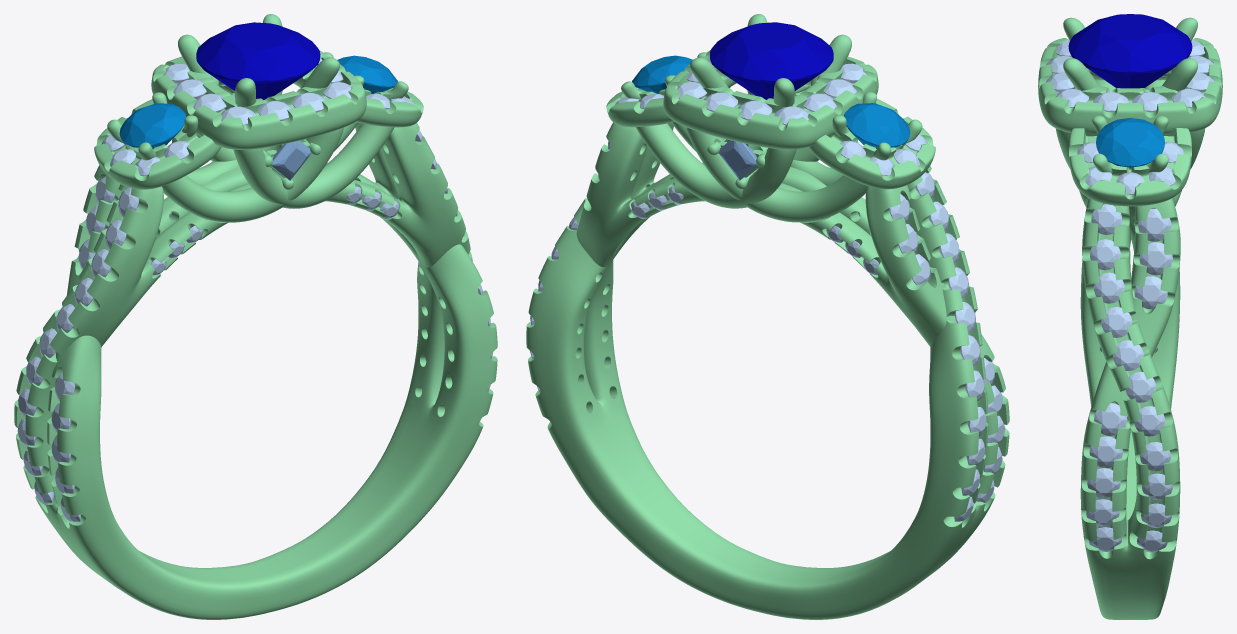
3 views of the same model, side by side, from view 1: azimuth 30°, elevation 25°; view 2: azimuth 150°, elevation 25°; view 3: azimuth 270°, elevation 25° (orthographic).
Parts seen in each view (by area): view 1: 136 Anillo Matrimonio Excelsior.3dm, Diamond_Round (×3), Diamond_Princess; view 2: 136 Anillo Matrimonio Excelsior.3dm, Diamond_Round (×3), Diamond_Princess; view 3: 136 Anillo Matrimonio Excelsior.3dm, Diamond_Round (×32).
Boxes of the visible parts, <box> form: 136 Anillo Matrimonio Excelsior.3dm: <box>14,14,497,619</box>; Diamond_Round (×3): <box>119,22,397,148</box>; Diamond_Princess: <box>271,140,311,180</box>; 136 Anillo Matrimonio Excelsior.3dm: <box>526,14,1009,619</box>; Diamond_Round (×3): <box>632,22,910,148</box>; Diamond_Princess: <box>719,140,757,180</box>; 136 Anillo Matrimonio Excelsior.3dm: <box>1038,17,1222,619</box>; Diamond_Round (×32): <box>1046,14,1215,552</box>.
Size of the model in its own units: 2.48 by 3.01 by 0.8877.
